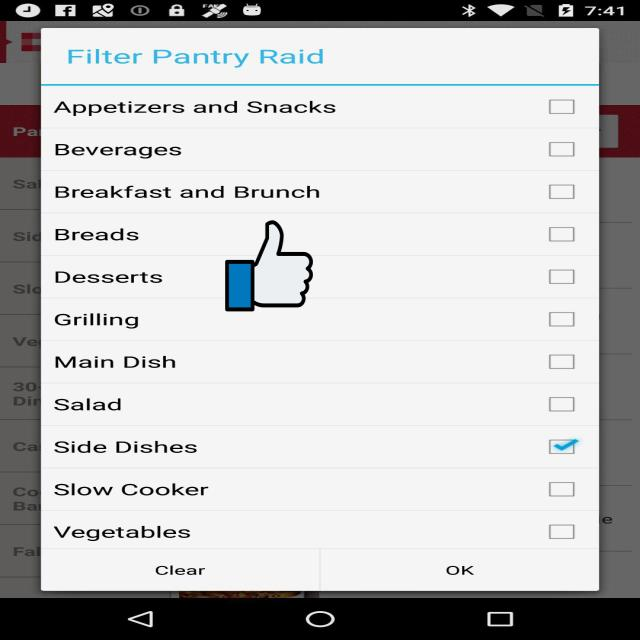privacy zuckering: (225, 218, 313, 314)
